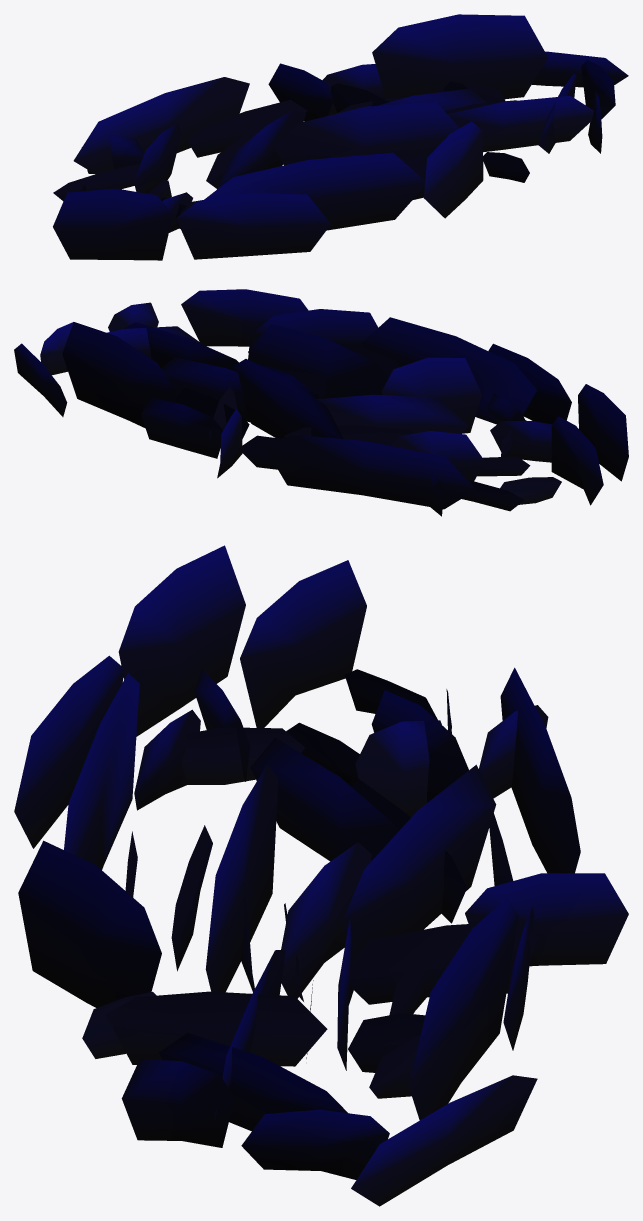
File: SM_Grass_S_Patch_Lg_03.fbx
3 views of the same model, one above another, from view 1: azimuth 30°, elevation 25°; view 2: azimuth 150°, elevation 25°; view 3: azimuth 270°, elevation 25° (orthographic). The views are drawn at different scales.
Parts seen in each view (by area): view 1: SM_Grass_S_Patch_Lg_03; view 2: SM_Grass_S_Patch_Lg_03; view 3: SM_Grass_S_Patch_Lg_03.
Part boxes in pixels (<box>): SM_Grass_S_Patch_Lg_03: <box>53,14,628,260</box>; SM_Grass_S_Patch_Lg_03: <box>14,289,628,516</box>; SM_Grass_S_Patch_Lg_03: <box>14,545,628,1206</box>.
Size of the model in its own units: 446 by 208 by 60.82.
